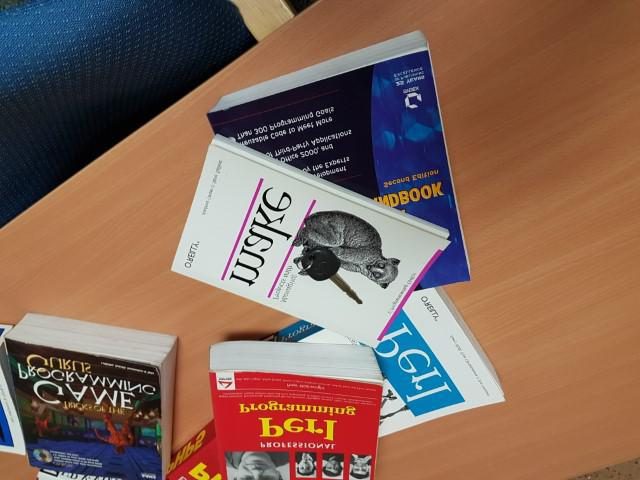key: (303, 248, 362, 304)
